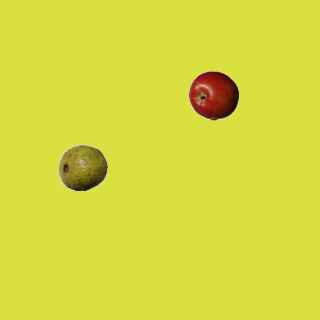Apple Braeburn: (188, 70, 238, 120)
Guava: (57, 142, 107, 192)
